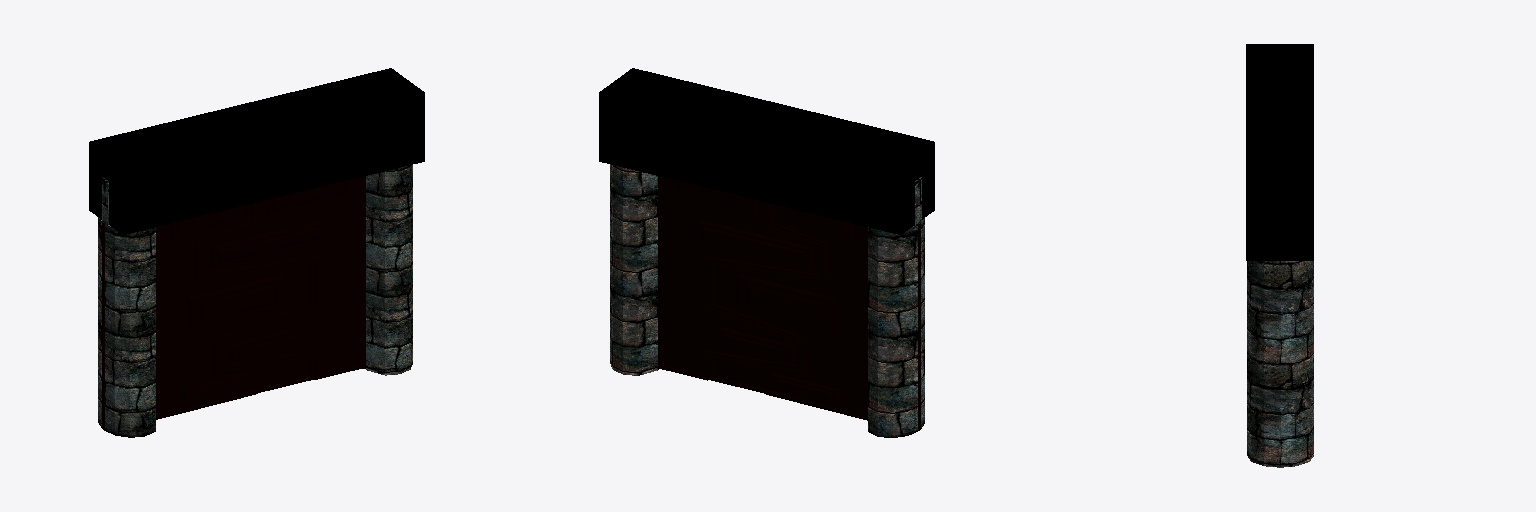
The picture shows the model from 3 angles: view 1: azimuth 30°, elevation 25°; view 2: azimuth 150°, elevation 25°; view 3: azimuth 270°, elevation 25°; orthographic projection.
Parts seen in each view (by area): view 1: big_doorway, big_door_left, big_door_right; view 2: big_doorway, big_door_left, big_door_right; view 3: big_doorway.
Boxes of the visible parts, <box> form: big_doorway: <box>89,68,424,437</box>; big_door_left: <box>102,203,314,430</box>; big_door_right: <box>201,176,365,379</box>; big_doorway: <box>599,68,934,437</box>; big_door_left: <box>708,203,920,430</box>; big_door_right: <box>658,176,821,380</box>; big_doorway: <box>1246,44,1313,467</box>.
Size of the model in its own units: 325 by 282 by 63.01.
Materials: 3 (1 with a texture image).